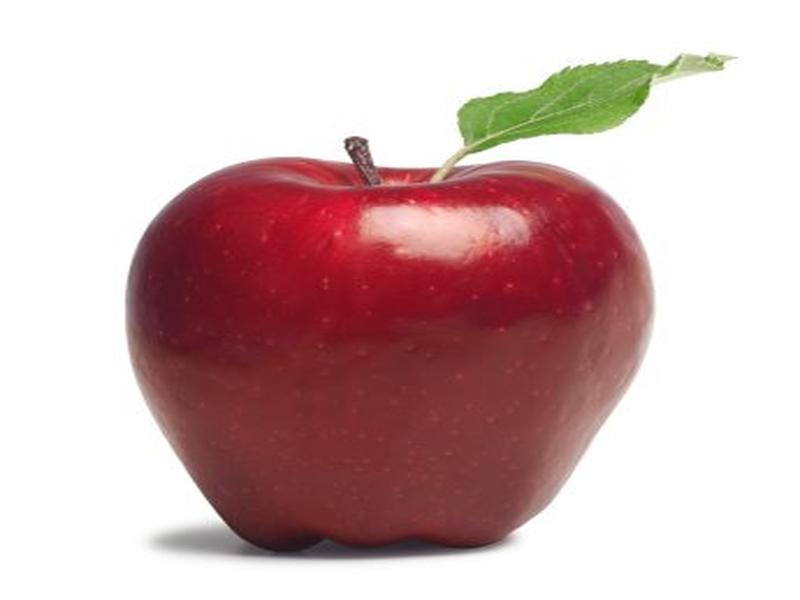apple: (112, 109, 701, 578)
